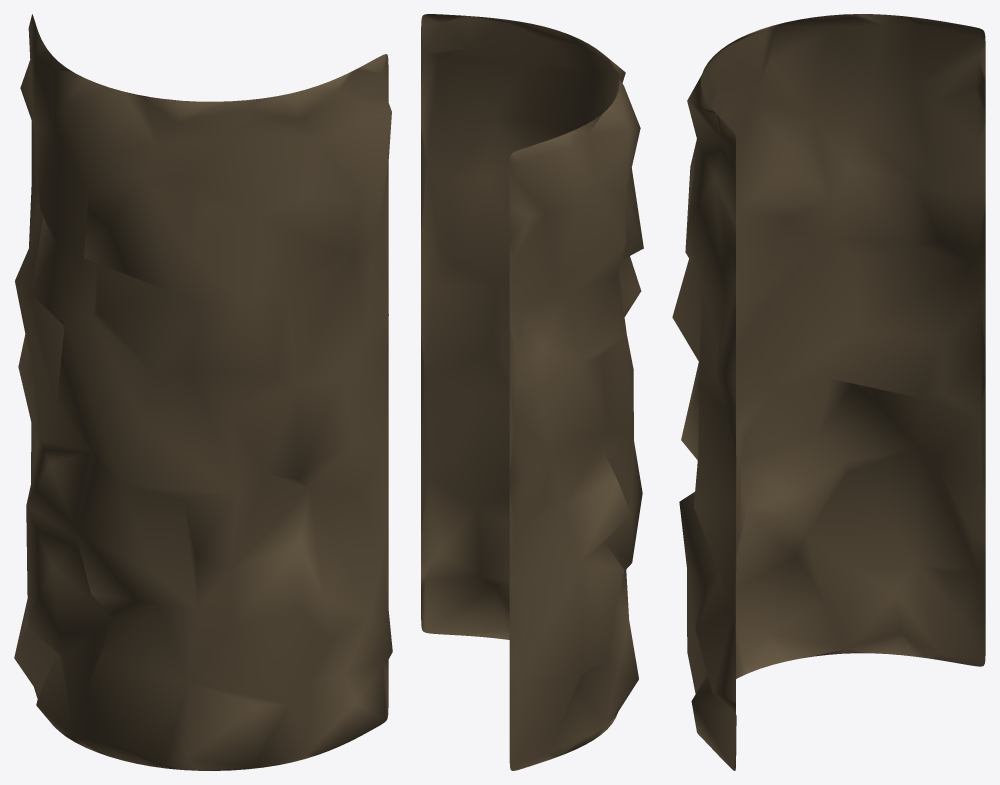
File: BlocksRock_03.fbx
3 views of the same model, side by side, from view 1: azimuth 30°, elevation 25°; view 2: azimuth 150°, elevation 25°; view 3: azimuth 270°, elevation 25° (orthographic). The views are drawn at different scales.
Parts seen in each view (by area): view 1: BlockRock_03_Rise; view 2: BlockRock_03_Rise; view 3: BlockRock_03_Rise.
Part boxes in pixels (left/top/right/bottom): BlockRock_03_Rise: left=14, top=14, right=392, bottom=770; BlockRock_03_Rise: left=421, top=14, right=643, bottom=770; BlockRock_03_Rise: left=672, top=14, right=985, bottom=770.
Bounding box in the file's own units: 891 × 2000 × 888.
